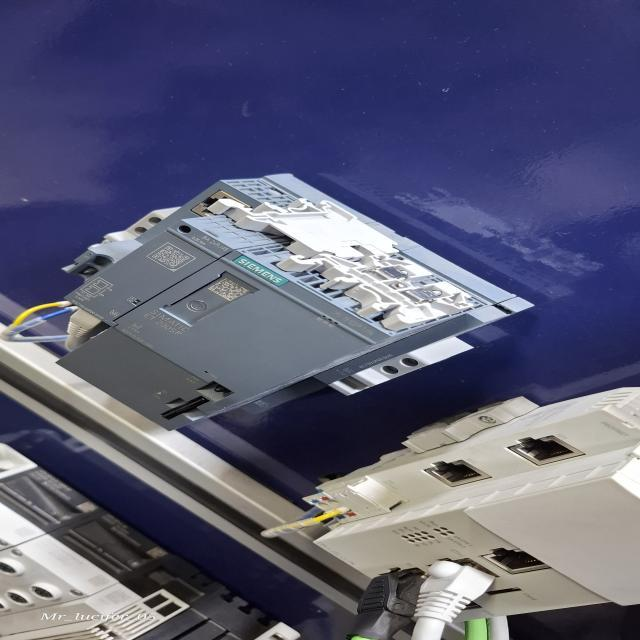Inverted: (192, 189, 409, 262)
Pass: (281, 253, 480, 330)
